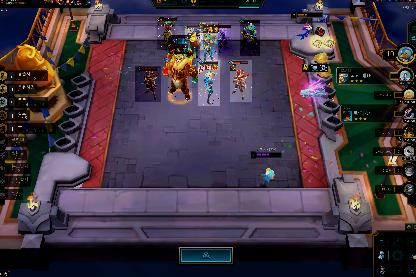1_aoshin: (168, 35, 198, 59)
1_bard: (185, 26, 203, 50)
1_yasuo: (216, 25, 232, 49)
2_graves: (240, 20, 260, 56)
2_leesin: (198, 60, 220, 106)
2_sett: (135, 66, 161, 102), (230, 60, 252, 102)
3_kaisa: (200, 22, 218, 62)
3_karma: (157, 18, 175, 50)
3_volibear: (168, 45, 192, 101)
